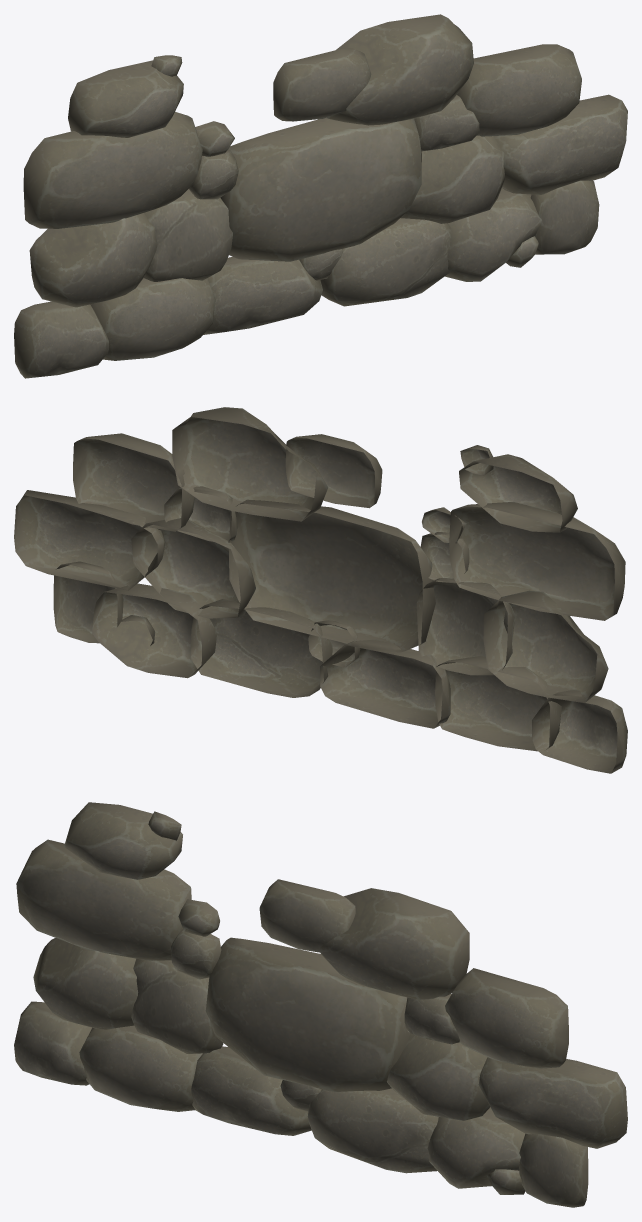
File: MSH_fwOF_Ruins_Wall_Bricks_08.fbx
The picture shows the model from 3 angles, top to bottom: view 1: azimuth 30°, elevation 25°; view 2: azimuth 150°, elevation 25°; view 3: azimuth 330°, elevation 25°; orthographic projection.
Visible parts, largest first — view 1: MSH_fwOF_Ruins_Wall_Bricks_08; view 2: MSH_fwOF_Ruins_Wall_Bricks_08; view 3: MSH_fwOF_Ruins_Wall_Bricks_08.
Part boxes in pixels (left/top/right/bottom): MSH_fwOF_Ruins_Wall_Bricks_08: left=14, top=14, right=627, bottom=378; MSH_fwOF_Ruins_Wall_Bricks_08: left=14, top=407, right=627, bottom=773; MSH_fwOF_Ruins_Wall_Bricks_08: left=14, top=802, right=627, bottom=1207.
Bounding box in the file's own units: 4.3 × 2.01 × 0.3695.
